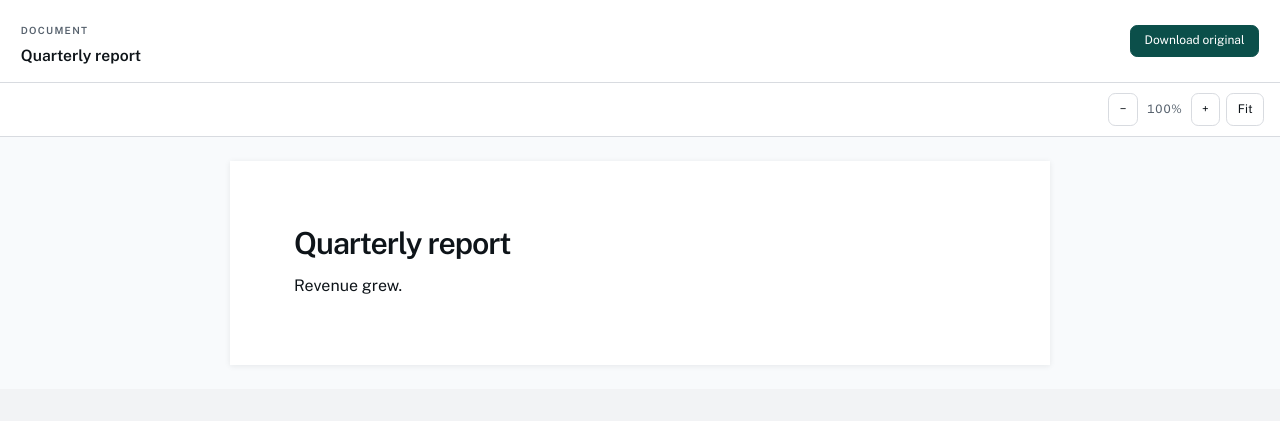
Test: artifact reading canvas › reports a failed original request and allows retry
The image size is (1280, 421).
Click the button "Download original". click: (1195, 41)
box: 1130,25 -> 1259,57
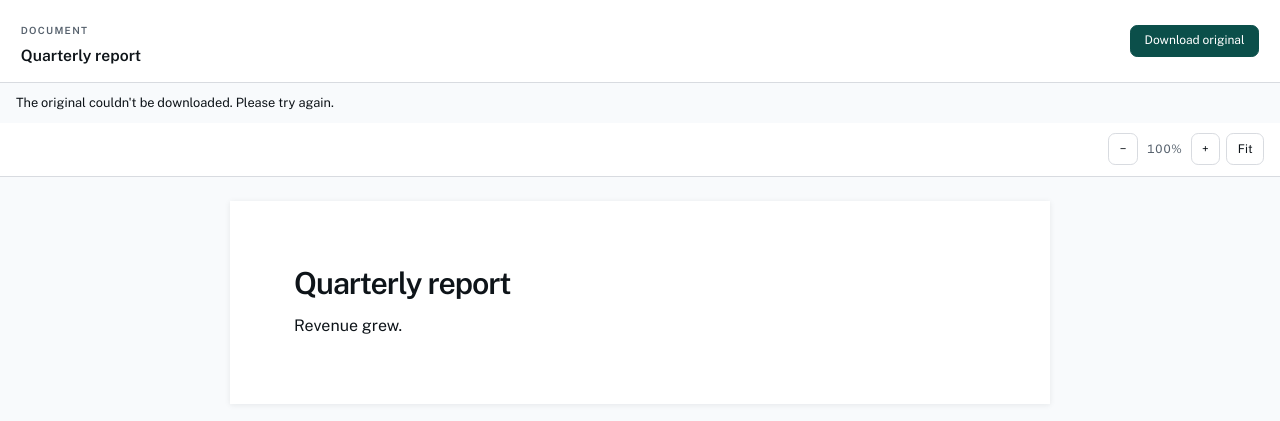
Now the message "The original couldn't be downloaded. Please try again." is shown, box 0,83 -> 1279,123
Click the button "Download original". click: (1195, 41)
box: 1130,25 -> 1259,57
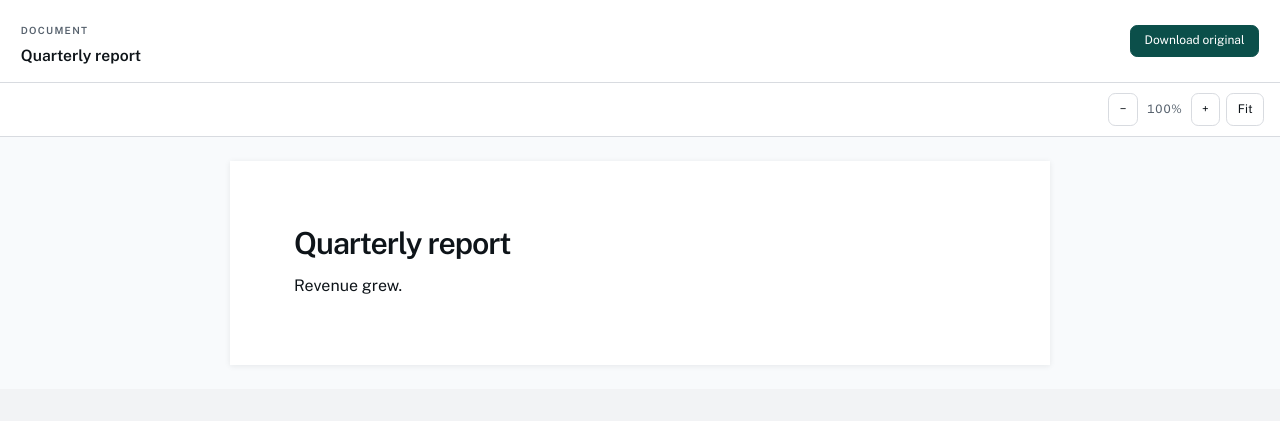
Now the message "The original couldn't be downloaded. Please try again." is gone
